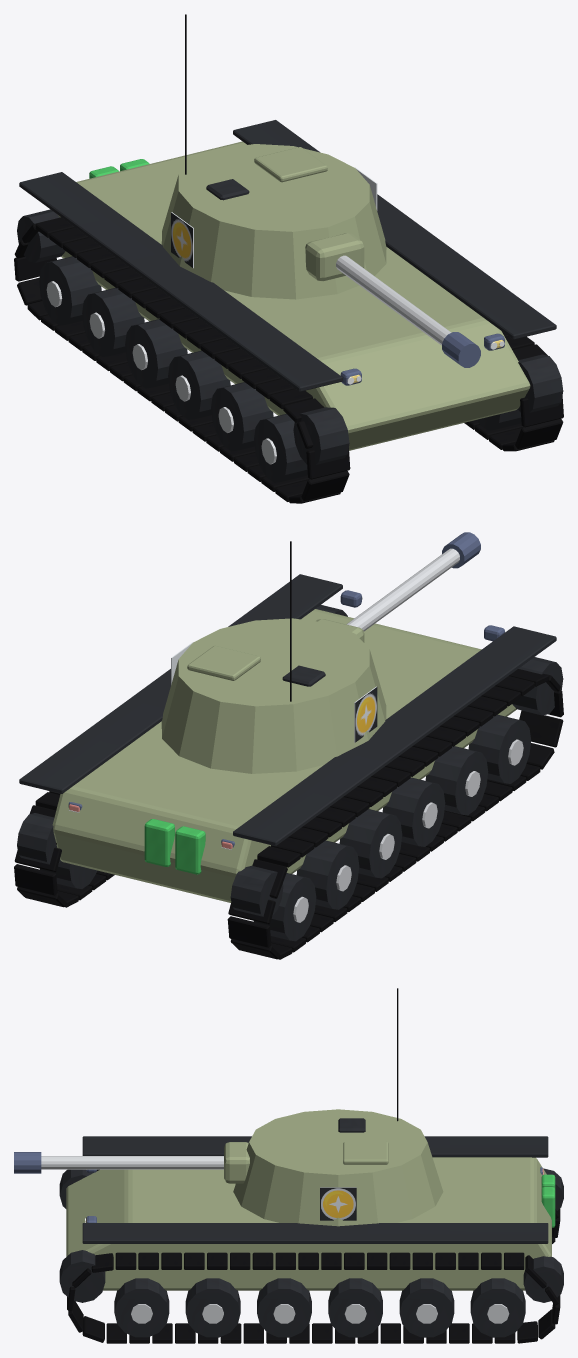
The model's file is V08_tank_v2.glb.
3 renders of one model, top to bottom at view 1: azimuth 30°, elevation 25°; view 2: azimuth 150°, elevation 25°; view 3: azimuth 270°, elevation 25°, orthographic. The views are drawn at different scales.
Visible parts, largest first — view 1: Tracks, Body, Barrel, TankDetails, Trunk; view 2: Tracks, Body, TankDetails, Barrel, Trunk; view 3: Tracks, Body, Barrel, TankDetails, Trunk.
Part boxes in pixels (x1,y1,x2,y2): Tracks: [14, 120, 563, 503]; Body: [57, 141, 530, 450]; Barrel: [305, 233, 480, 367]; TankDetails: [89, 14, 377, 268]; Trunk: [254, 147, 327, 182]; Tracks: [14, 574, 563, 959]; Body: [52, 609, 516, 902]; TankDetails: [144, 541, 377, 874]; Barrel: [316, 532, 480, 642]; Trunk: [187, 645, 260, 680]; Tracks: [59, 1136, 563, 1343]; Body: [66, 1109, 551, 1290]; Barrel: [14, 1142, 249, 1183]; TankDetails: [320, 988, 555, 1227]; Trunk: [343, 1141, 388, 1164].
Bounding box in the file's own units: 2.7 × 3.42 × 6.02.
Materials: 7 (1 with a texture image).
